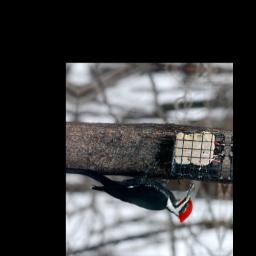Woodpecker: (72, 154, 199, 224)
